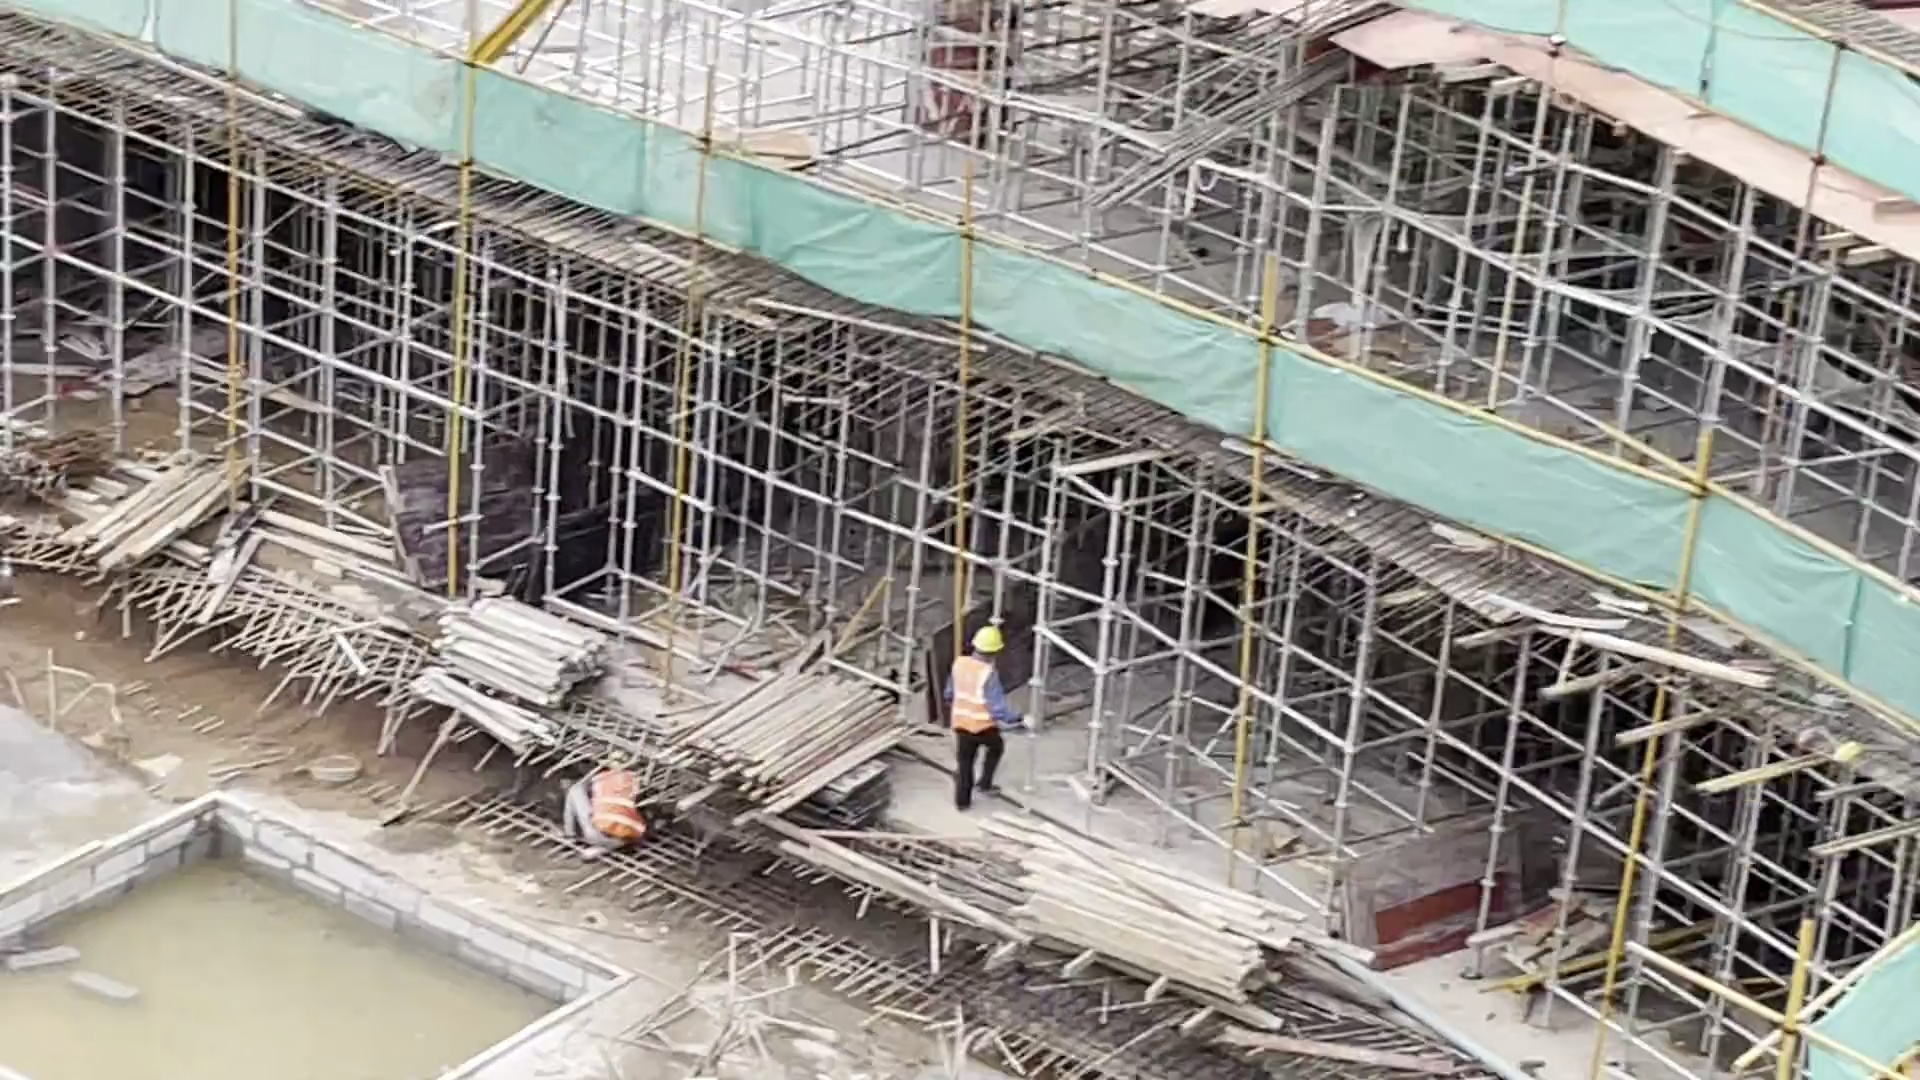helmet: (971, 626, 1005, 654)
person: (940, 625, 1020, 812), (560, 754, 644, 843)
vest: (593, 766, 647, 840), (955, 658, 999, 735)
wood: (977, 811, 1375, 1027), (655, 662, 906, 825), (65, 454, 246, 563)
